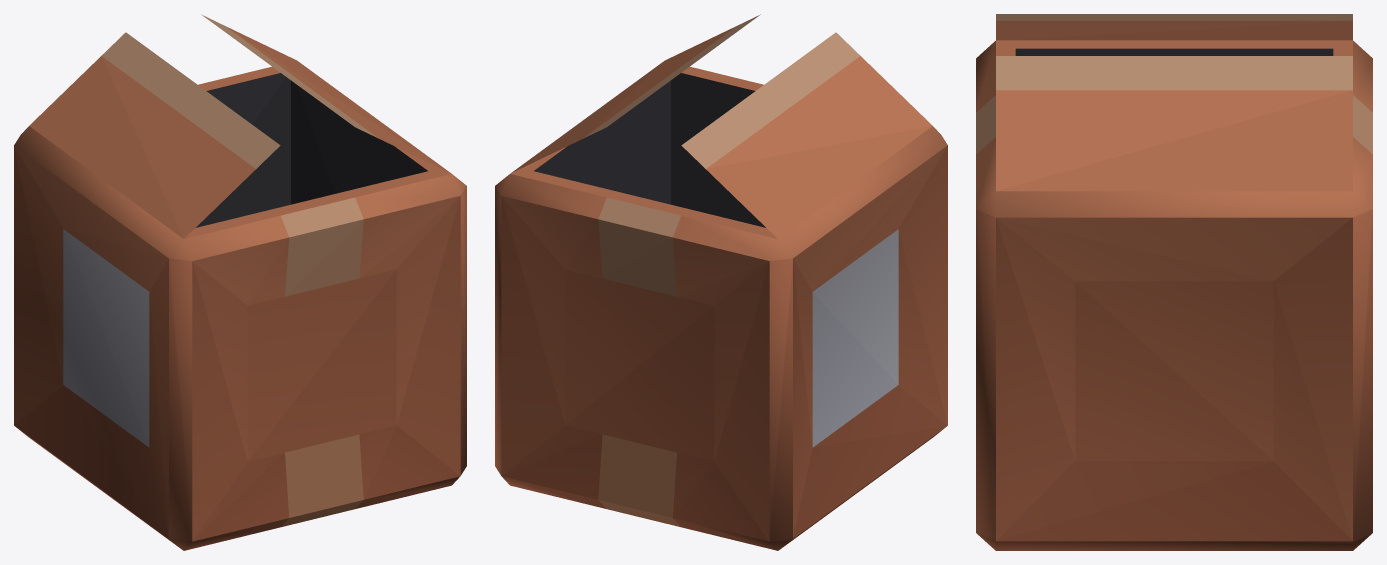
File: survival_box_open.glb
The picture shows the model from 3 angles, left to right: view 1: azimuth 30°, elevation 25°; view 2: azimuth 150°, elevation 25°; view 3: azimuth 270°, elevation 25°; orthographic projection. The views are drawn at different scales.
Visible parts, largest first — view 1: survival_box_open; view 2: survival_box_open; view 3: survival_box_open.
Boxes of the visible parts, <box> form: survival_box_open: <box>14,14,466,550</box>; survival_box_open: <box>495,14,947,550</box>; survival_box_open: <box>976,14,1372,550</box>.
Bounding box in the file's own units: 0.25 × 0.3063 × 0.25.
